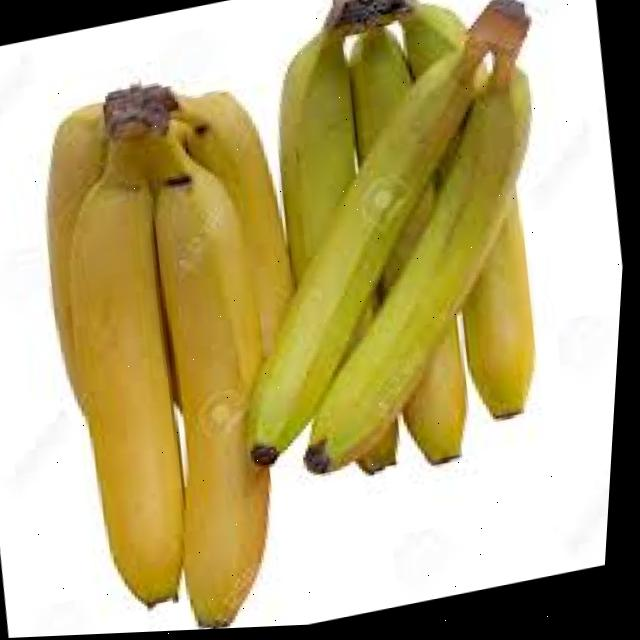Banana: (254, 8, 524, 459), (317, 81, 529, 471), (157, 143, 274, 628), (76, 179, 190, 603), (174, 95, 297, 359), (282, 32, 358, 282)
